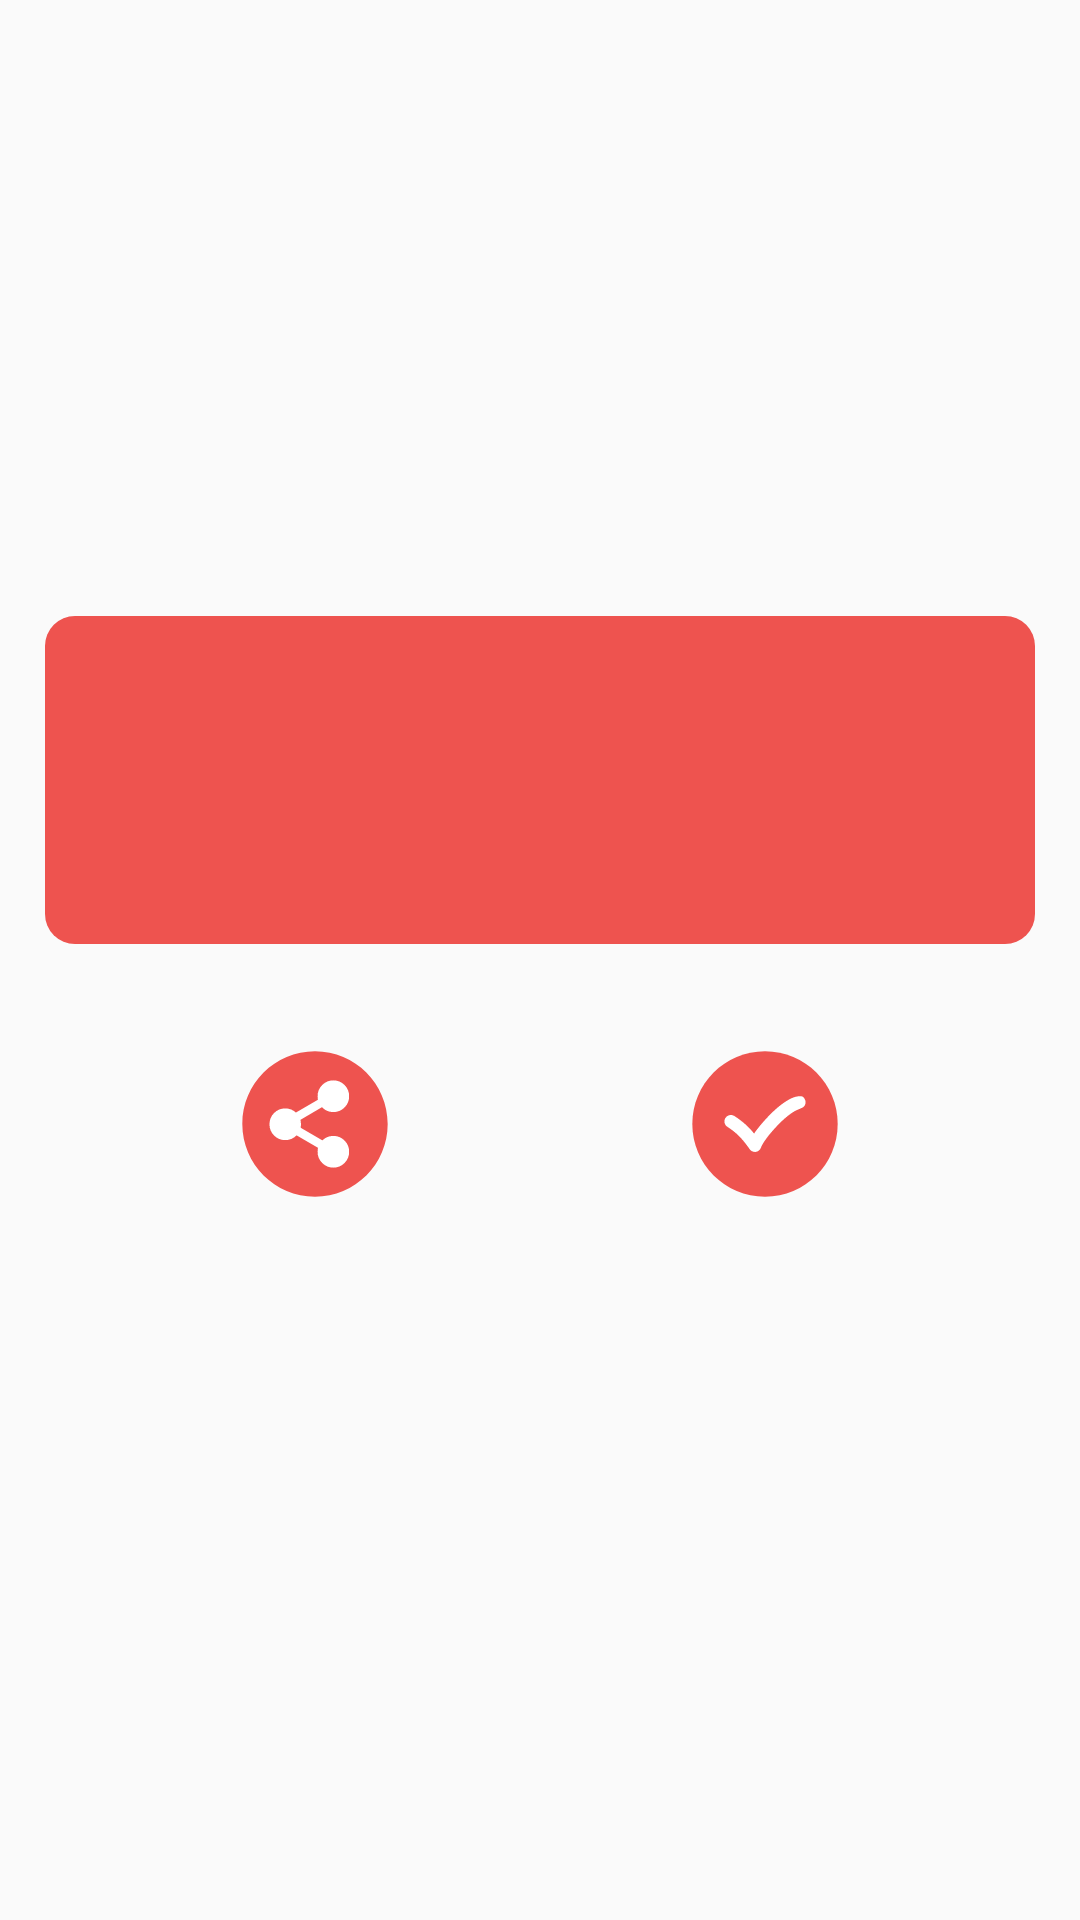

Screen size 1080w x 1920h. Icon name, then its box in pixels as (x1, y1, x2, y2):
share: (242, 1051, 388, 1197)
